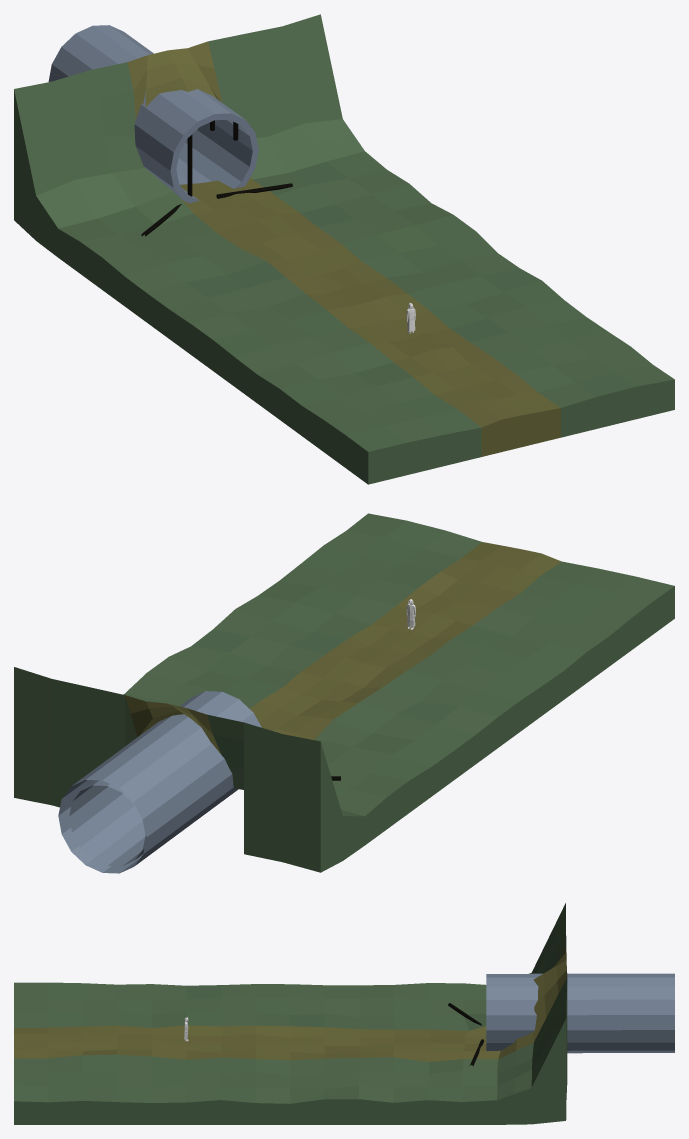
The model's file is terrain-forest.fbx.
3 views of the same model, one above another, from view 1: azimuth 30°, elevation 25°; view 2: azimuth 150°, elevation 25°; view 3: azimuth 270°, elevation 25° (orthographic). The views are drawn at different scales.
Visible parts, largest first — view 1: ground, sewer; view 2: ground, sewer; view 3: ground, sewer.
Part boxes in pixels (bbox=[...]): ground: bbox=[14, 14, 674, 484]; sewer: bbox=[48, 25, 258, 203]; ground: bbox=[14, 513, 674, 872]; sewer: bbox=[58, 691, 261, 873]; ground: bbox=[14, 903, 567, 1124]; sewer: bbox=[486, 973, 674, 1053].
Bounding box in the file's own units: 2000 × 856 × 4789.
